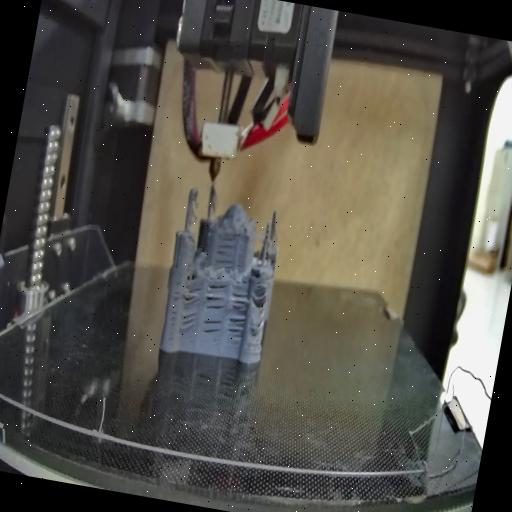cracks: (223, 288, 250, 342), (164, 282, 182, 343), (211, 229, 238, 269), (202, 280, 228, 311), (179, 280, 204, 306), (176, 310, 198, 338), (246, 312, 266, 340), (202, 314, 224, 339), (251, 286, 268, 308)
